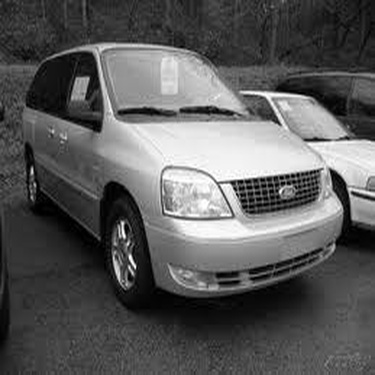car: (13, 35, 344, 319), (219, 83, 373, 246), (273, 60, 372, 152)
